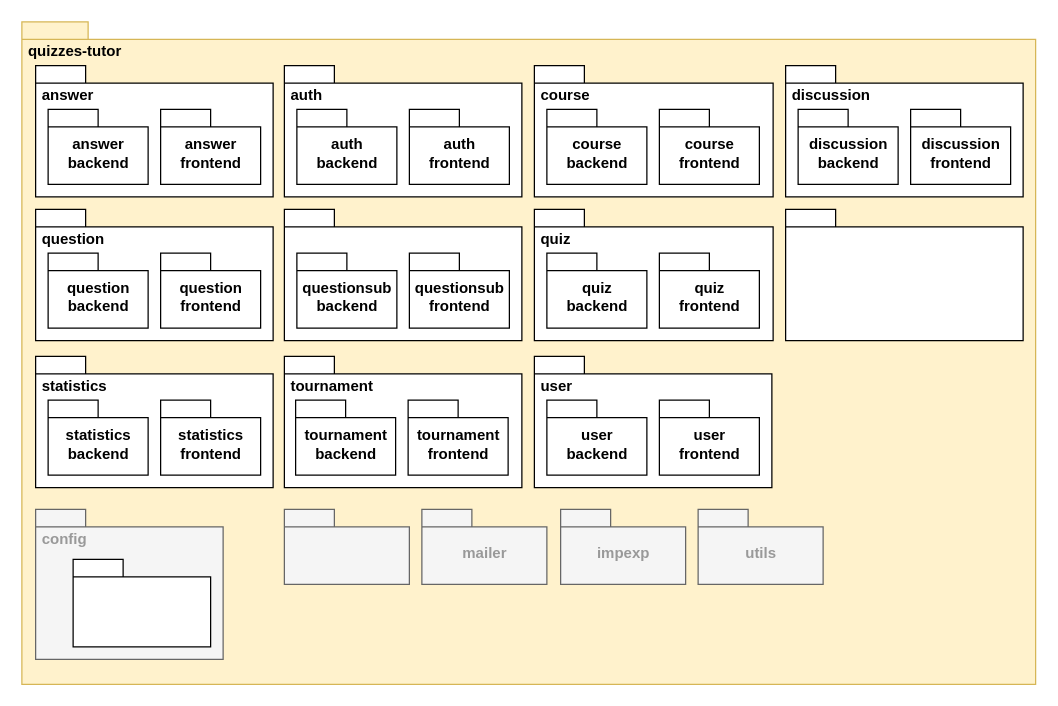
The diagram is 1058 pixels wide and 706 high, and some of its shapes have lost their labels. The shapes that lost their labels are listed below. From the top down, each one's box as (x1, y1, x2, y2) in pixels, then its label:
(283, 208, 522, 341): questionsubmission
(784, 208, 1023, 341): statement
(283, 508, 409, 584): exceptions
(72, 558, 211, 647): permission
